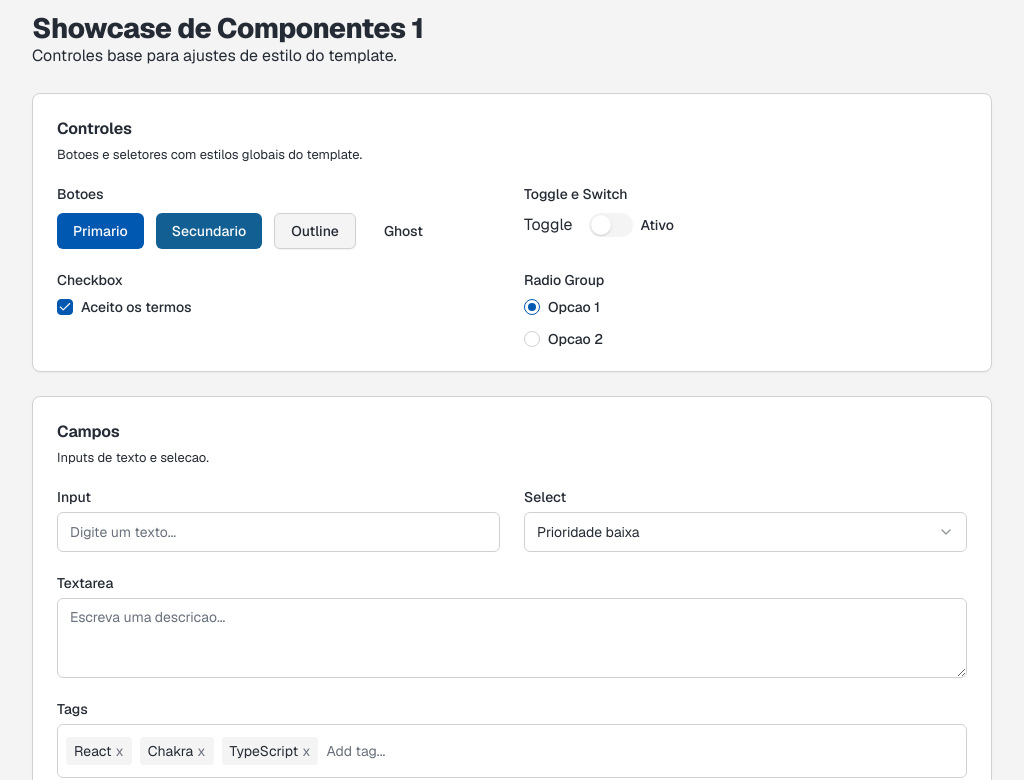
Scenario: ComponentsShowcase behaviors › adds and removes tags from keyboard/blur actions
Type "Node" into the field with placeholder "Add tag...".
click(642, 751); type("Node")  # box [326,735,958,767]
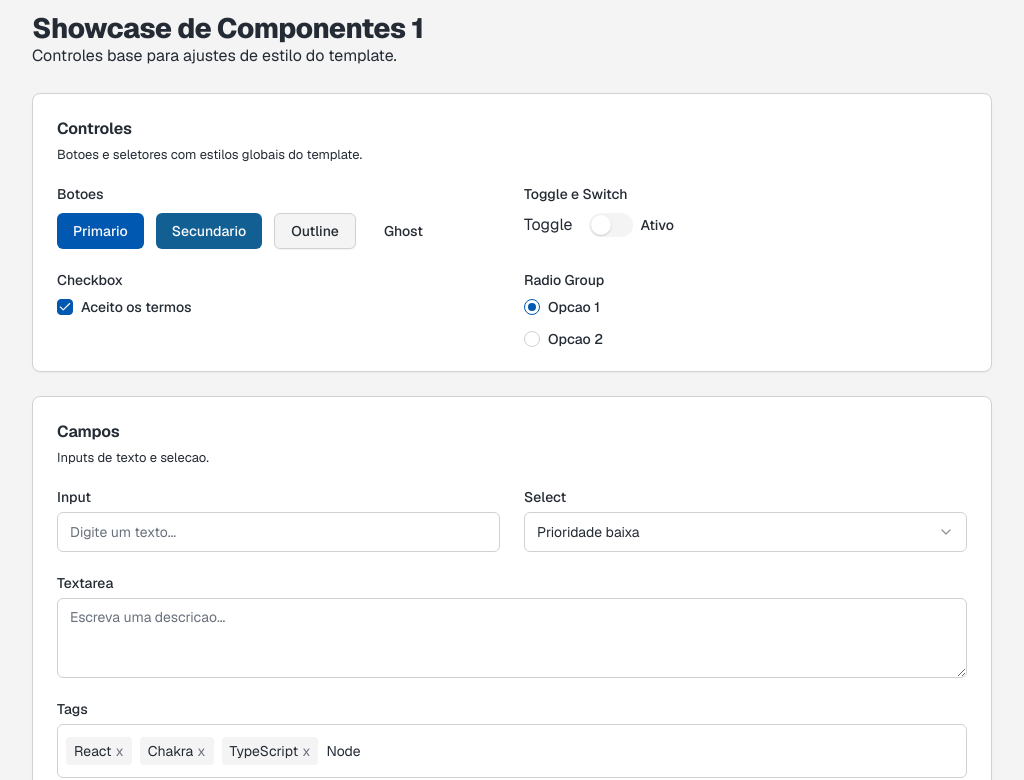
Press Enter in the field with placeholder "Add tag...", box [326,735,958,767]
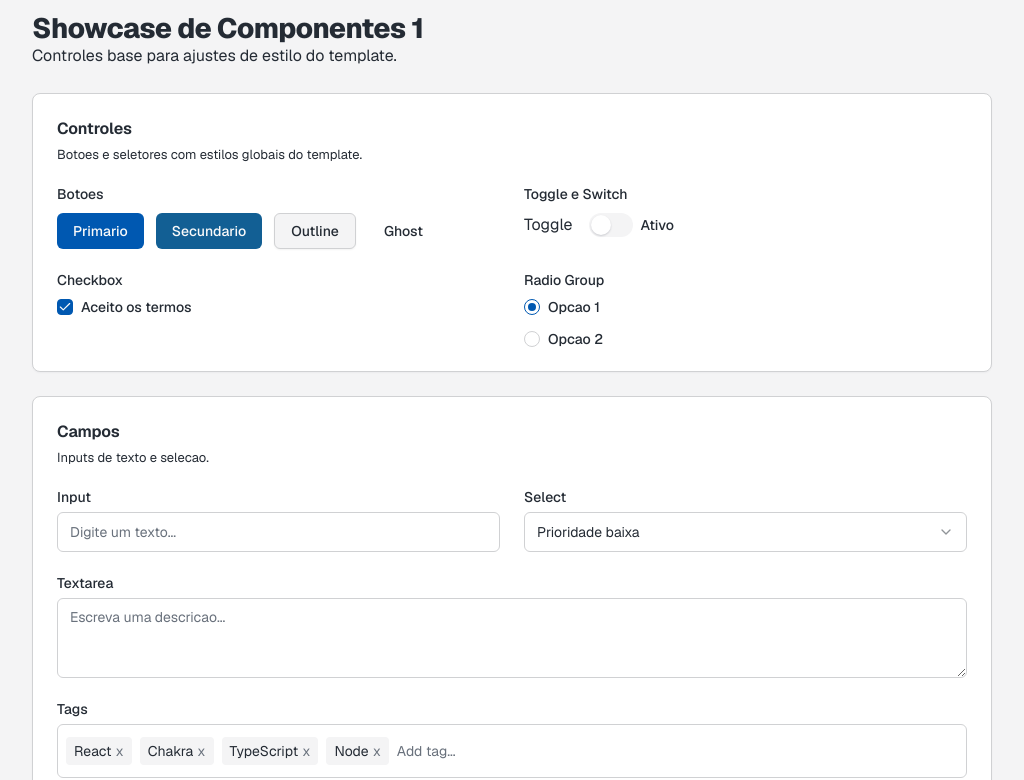
Now the text "Node" is shown, box [334,742,369,760]
Click the button named "Remover tag Node".
click(377, 751)  # box [373,741,381,761]
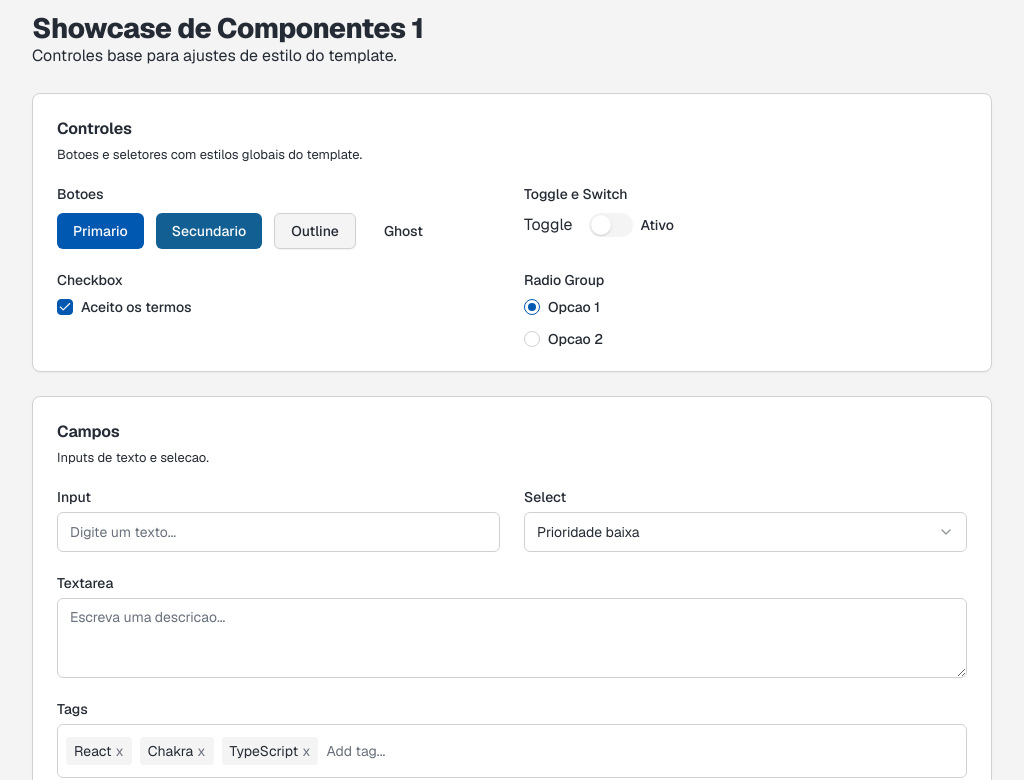
Now the text "Node" is gone
Type "Vitest" into the field with placeholder "Add tag...".
click(642, 751); type("Vitest")  # box [326,735,958,767]
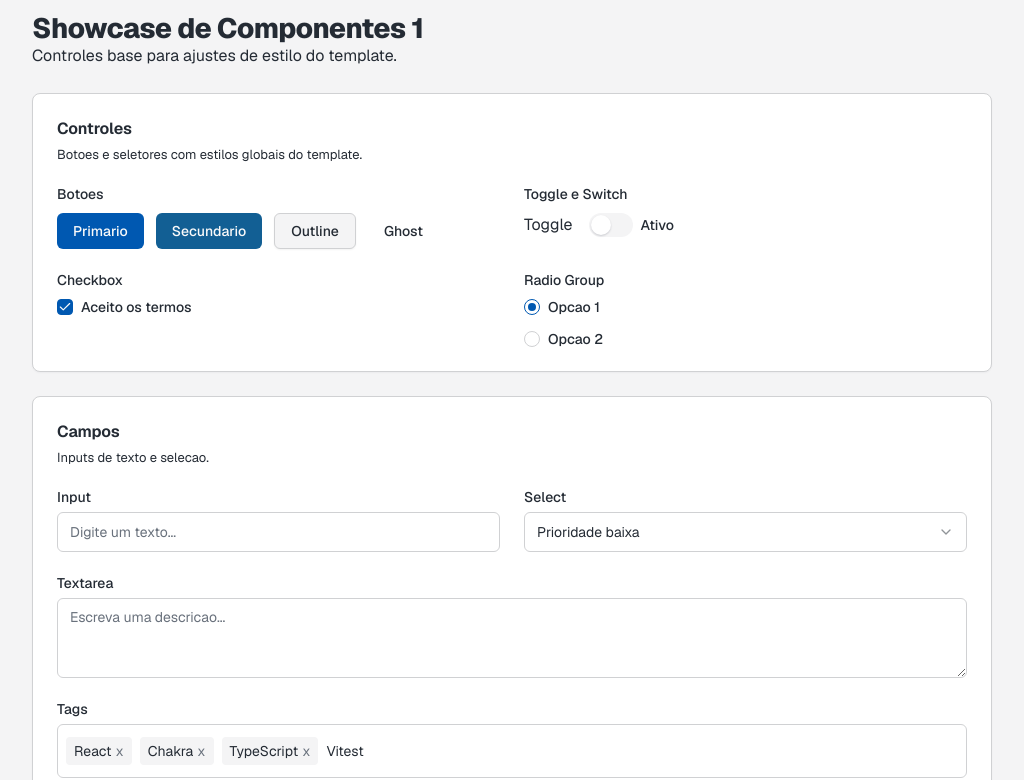
Leave the field with placeholder "Add tag...", box [326,735,958,767]
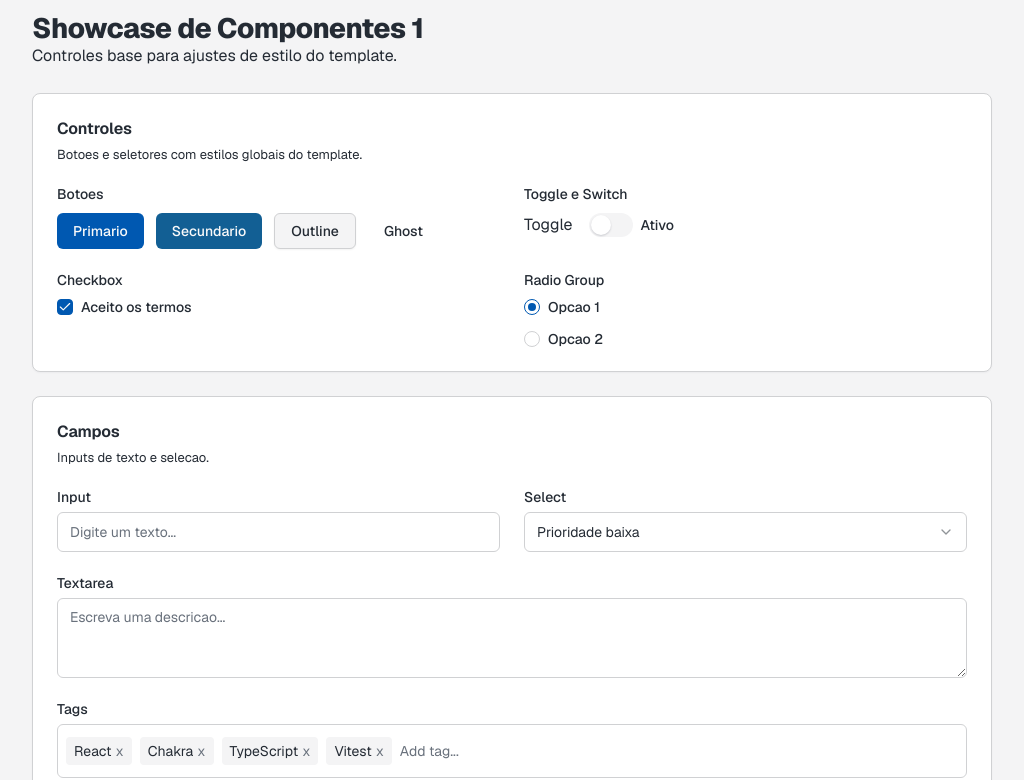
Now the text "Vitest" is shown, box [334,742,372,760]
